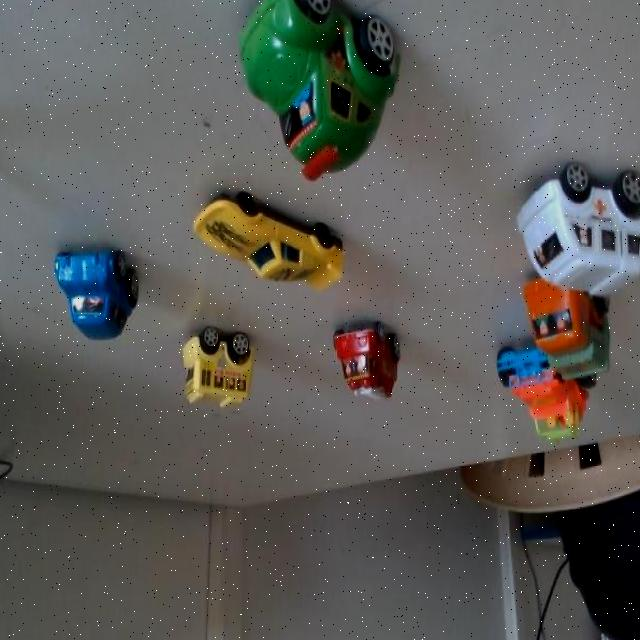car: (231, 0, 394, 175), (499, 136, 640, 319), (200, 177, 337, 303), (174, 312, 263, 414), (488, 340, 572, 446), (331, 303, 408, 413), (51, 241, 130, 344), (532, 271, 599, 389)
